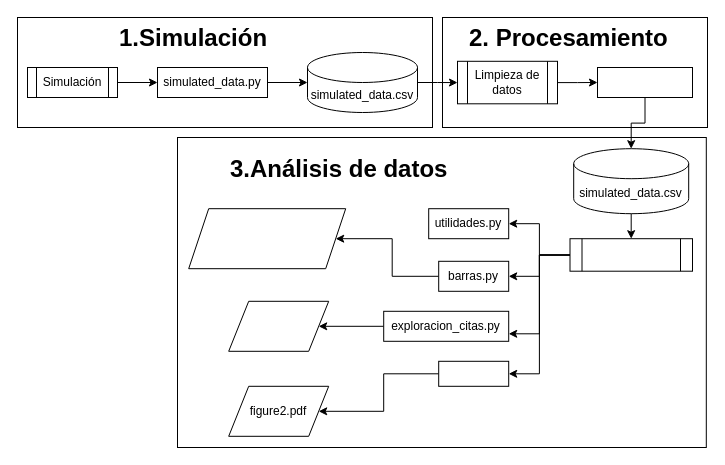
This 725x465 diagram has some shape labels left out. The shapes that lost their labels are listed below. From the top down, each one's centre as x and y in pixels, then its label:
(644,82): data_cleaning.py
(267,238): citas_por_pais_anho.pdf
(630,254): Análisis de datos
(278,325): figure1.pdf
(473,373): graphs.py
